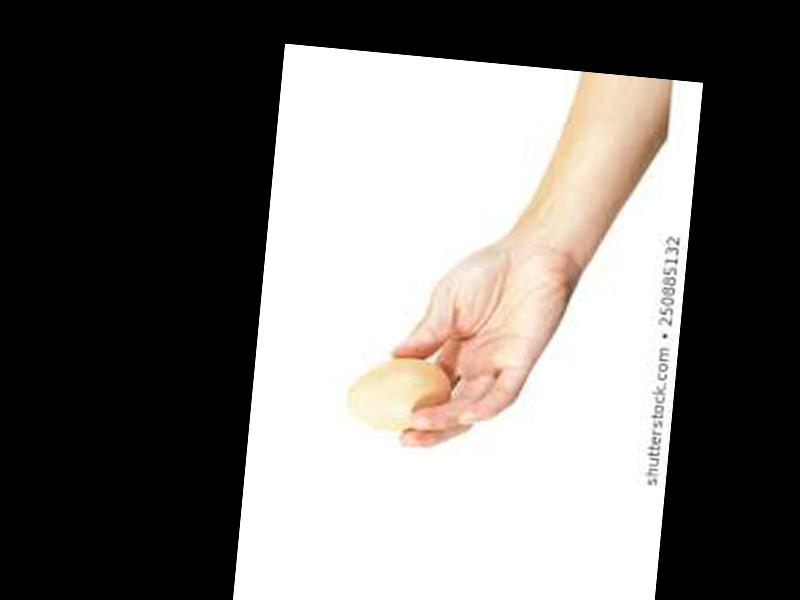Eggs: (342, 352, 457, 436)
